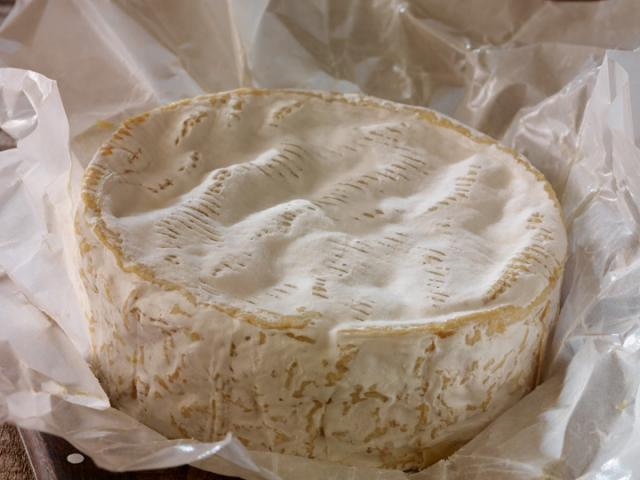camembert: (75, 88, 575, 472)
